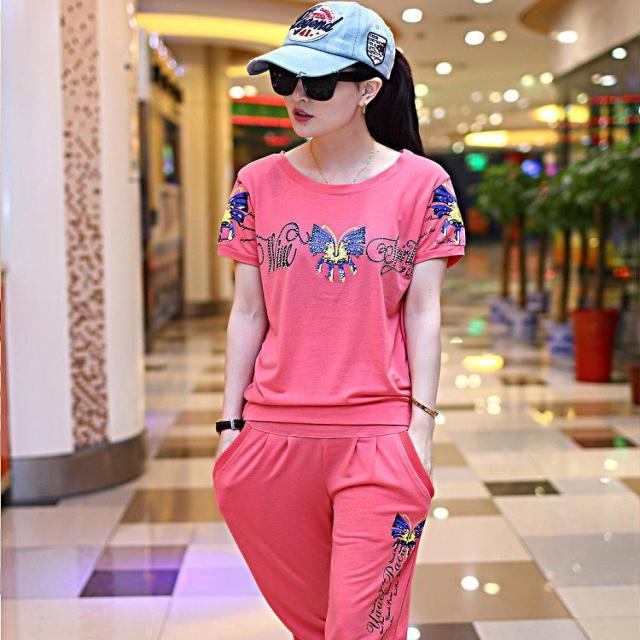short sleeve top: (220, 153, 461, 425)
trousers: (235, 402, 420, 639)
